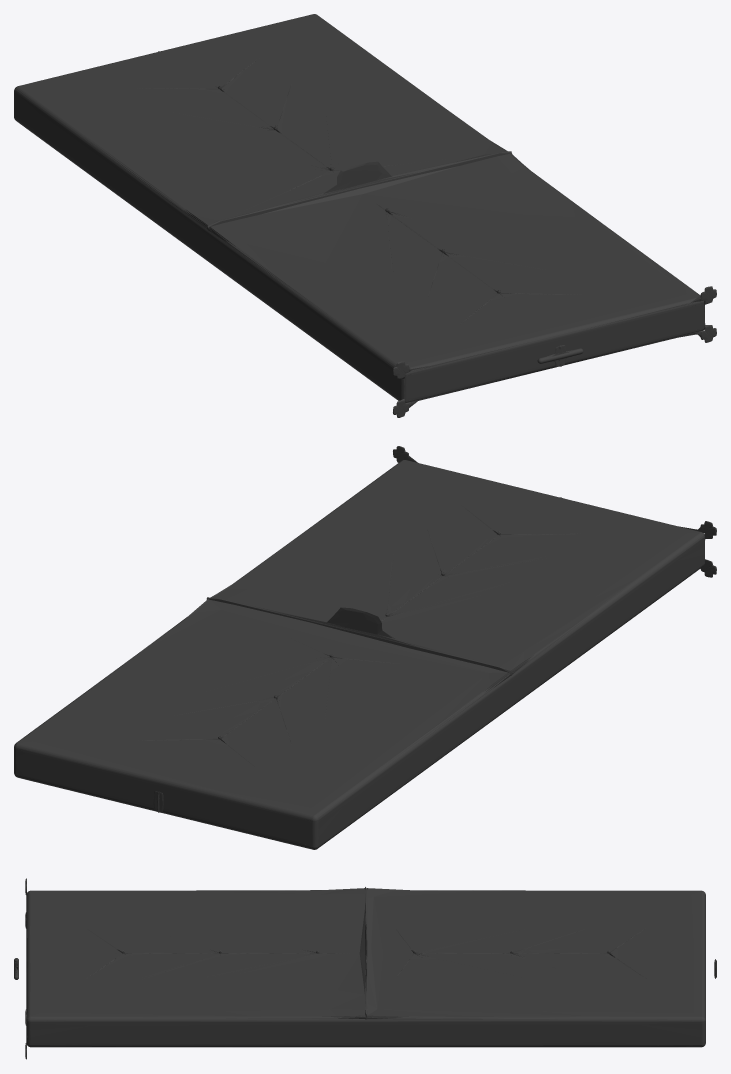
File: tmp_mechanical_door_quick.glb
The picture shows the model from 3 angles, top to bottom: view 1: azimuth 30°, elevation 25°; view 2: azimuth 150°, elevation 25°; view 3: azimuth 270°, elevation 25°; orthographic projection. The views are drawn at different scales.
Parts seen in each view (by area): view 1: door_leaf; view 2: door_leaf; view 3: door_leaf.
Part boxes in pixels (x1,y1,x2,y2): door_leaf: (14,14,716,417); door_leaf: (14,446,716,849); door_leaf: (14,878,716,1059).
Size of the model in its own units: 100 by 26.5 by 217.
Materials: 1 (1 with a texture image).
